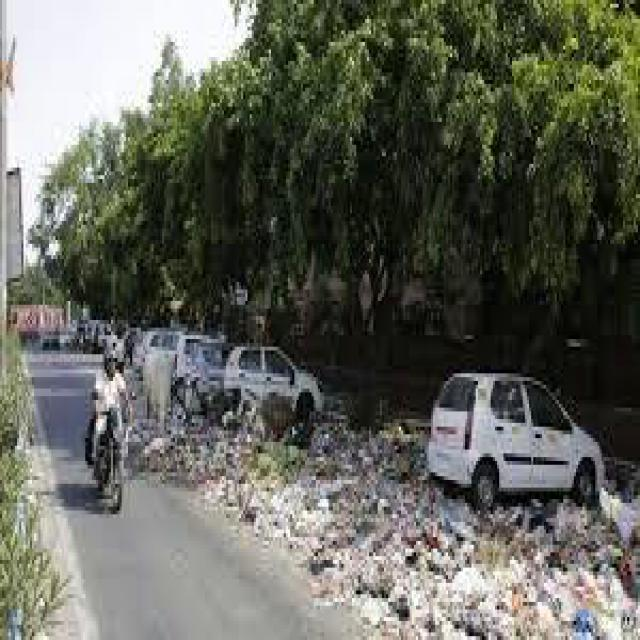garbage: (134, 396, 436, 568), (360, 480, 638, 636)
